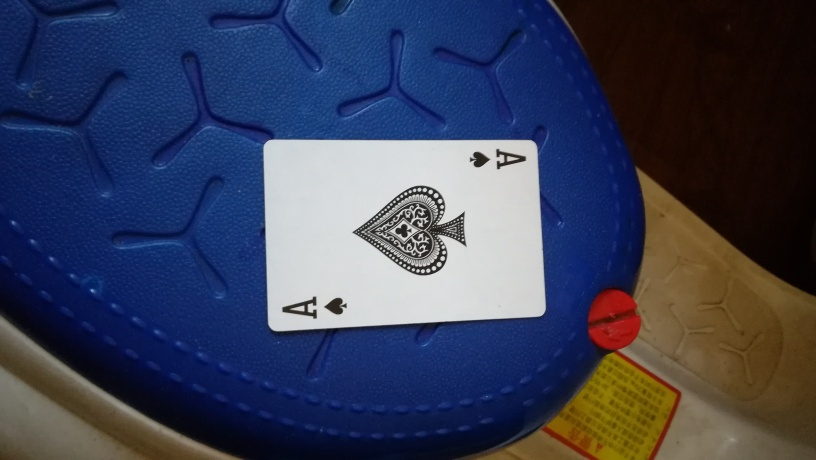ht a: (260, 134, 546, 333)
